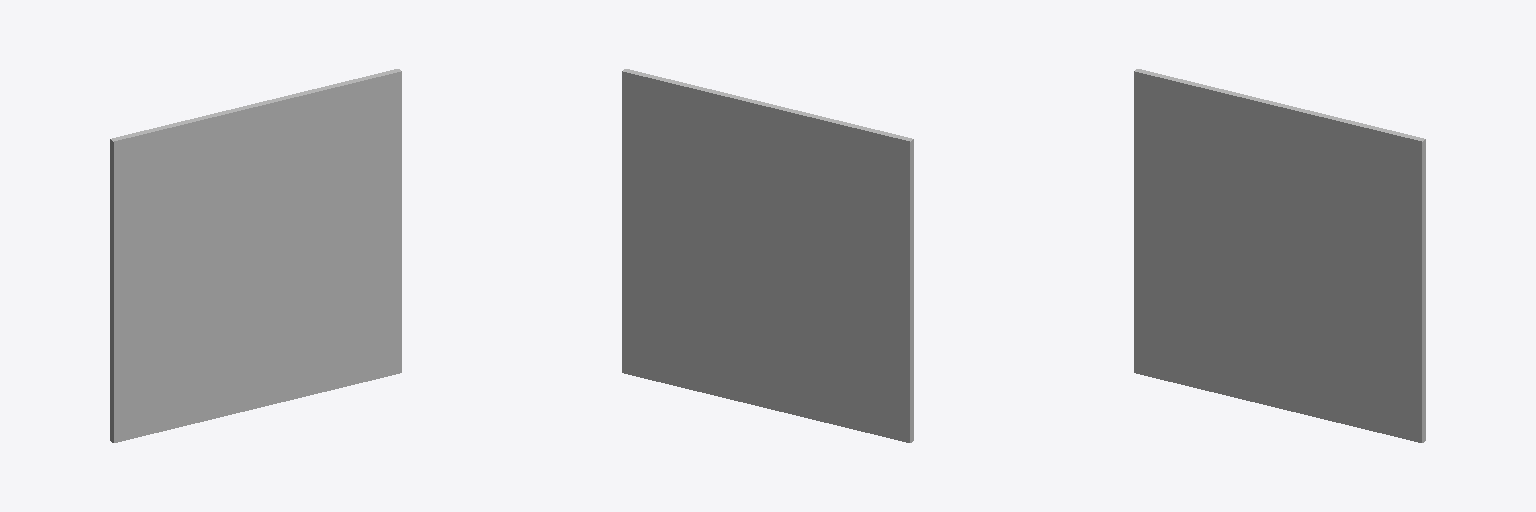
Rendered from Grass lawn.obj.
3 renders of one model, left to right at view 1: azimuth 30°, elevation 25°; view 2: azimuth 150°, elevation 25°; view 3: azimuth 330°, elevation 25°, orthographic.
Parts seen in each view (by area): view 1: Object.1, Object.2; view 2: Object.2; view 3: Object.1, Object.2.
Boxes of the visible parts, box(x1,y1,x2,y2) form: Object.1: box(114, 71, 401, 442); Object.2: box(110, 69, 400, 442); Object.2: box(622, 69, 913, 442); Object.1: box(1134, 71, 1421, 442); Object.2: box(1135, 69, 1425, 442).
Size of the model in its own units: 20 by 20 by 0.4432.